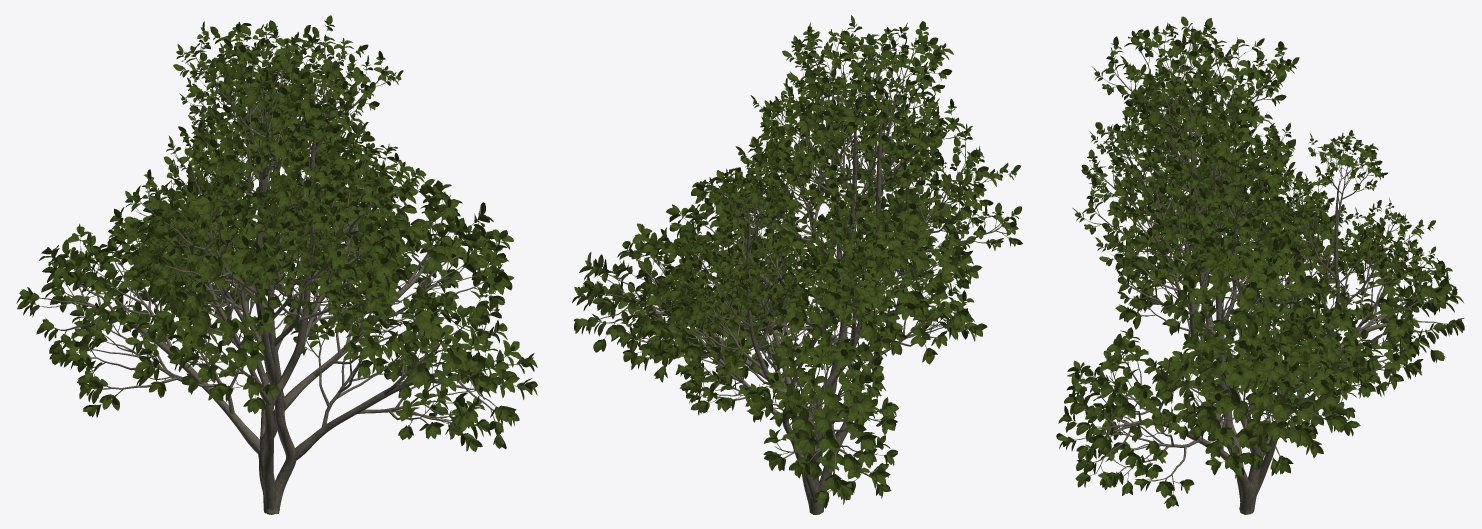
File: FBX_AS06_FicusBenghalensis_9.fbx
The picture shows the model from 3 angles, left to right: view 1: azimuth 30°, elevation 25°; view 2: azimuth 150°, elevation 25°; view 3: azimuth 270°, elevation 25°; orthographic projection. The views are drawn at different scales.
Parts seen in each view (by area): view 1: FBX_AS06_FicusBenghalensis_9; view 2: FBX_AS06_FicusBenghalensis_9; view 3: FBX_AS06_FicusBenghalensis_9.
Part boxes in pixels (x1,y1,x2,y2): FBX_AS06_FicusBenghalensis_9: (16,15,537,514); FBX_AS06_FicusBenghalensis_9: (572,15,1022,514); FBX_AS06_FicusBenghalensis_9: (1056,16,1464,514).
Size of the model in its own units: 1226 by 1390 by 1102.
